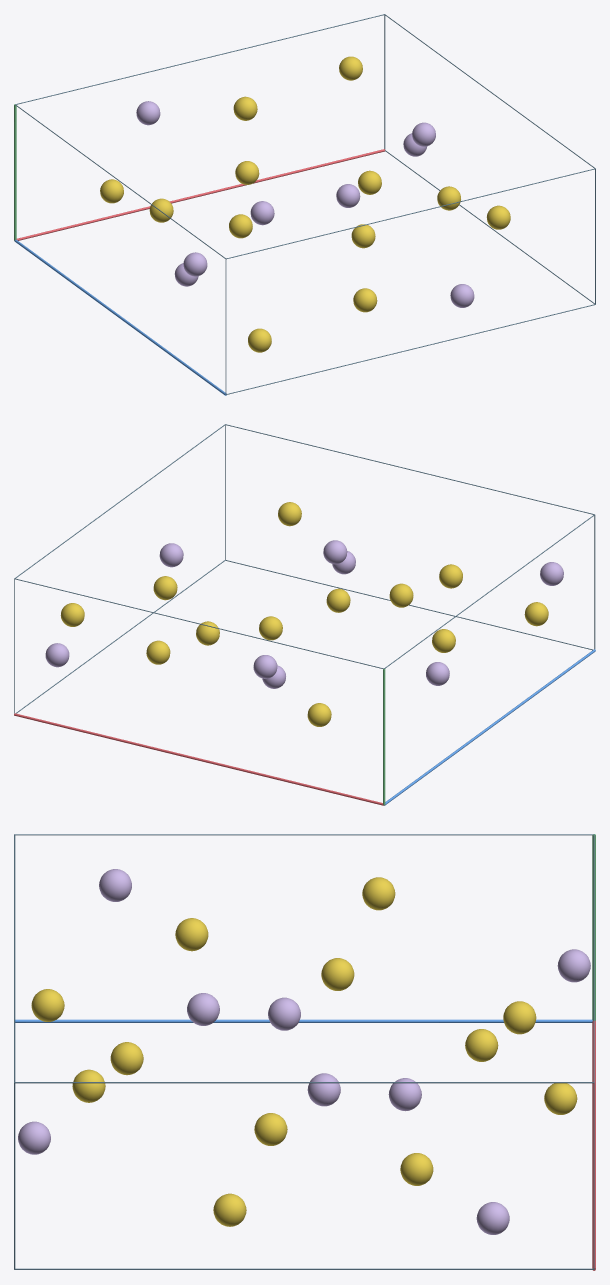
Rendered from bismuthinite.glb.
3 renders of one model, top to bottom at view 1: azimuth 30°, elevation 25°; view 2: azimuth 150°, elevation 25°; view 3: azimuth 270°, elevation 25°, orthographic. The views are drawn at different scales.
Parts seen in each view (by area): view 1: Ô mạng và các trục a, b, c; view 2: Ô mạng và các trục a, b, c; view 3: Ô mạng và các trục a, b, c, S1 · S · 1 (×4), S2 · S · 1 (×4), S3 · S · 1 (×4), Bi2 · Bi · 1 (×4), Bi1 · Bi · 1 (×4).
Part boxes in pixels (left/top/right/bottom): Ô mạng và các trục a, b, c: left=14, top=14, right=595, bottom=395; Ô mạng và các trục a, b, c: left=14, top=424, right=595, bottom=805; Ô mạng và các trục a, b, c: left=14, top=834, right=595, bottom=1270; S1 · S · 1 (×4): left=110, top=918, right=498, bottom=1185; S2 · S · 1 (×4): left=72, top=877, right=536, bottom=1226; S3 · S · 1 (×4): left=31, top=958, right=577, bottom=1145; Bi2 · Bi · 1 (×4): left=18, top=949, right=590, bottom=1154; Bi1 · Bi · 1 (×4): left=99, top=869, right=509, bottom=1234.
Bounding box in the file's own units: 11.58 × 4.02 × 11.23.
